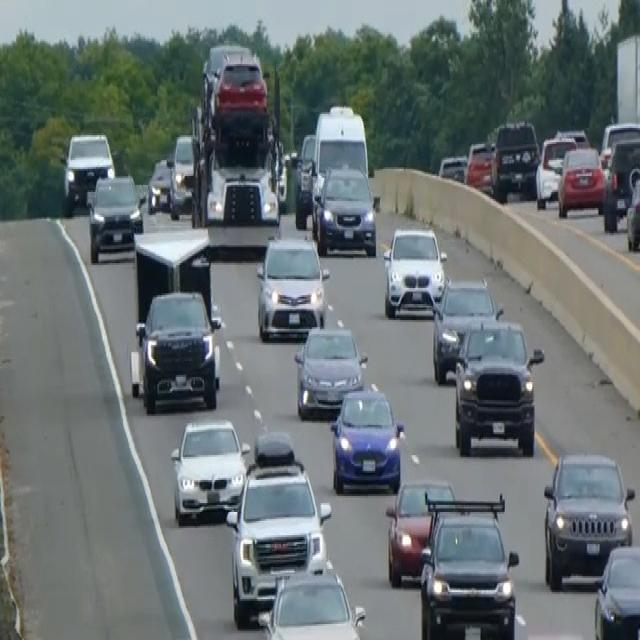car: (225, 430, 331, 628), (418, 492, 519, 638), (542, 448, 634, 590), (452, 315, 544, 457), (130, 286, 221, 412), (169, 416, 250, 524), (329, 384, 405, 494), (254, 231, 329, 341), (257, 564, 367, 638), (429, 274, 502, 384), (384, 476, 455, 586), (293, 320, 367, 418), (382, 222, 447, 318), (313, 164, 377, 256), (87, 171, 143, 263), (59, 128, 115, 213), (593, 542, 639, 638), (491, 117, 540, 199), (200, 39, 251, 117), (557, 144, 605, 219), (602, 135, 639, 231), (534, 133, 577, 208), (292, 132, 317, 226), (169, 132, 196, 212), (599, 119, 639, 173), (464, 139, 495, 192), (146, 155, 174, 213), (625, 169, 639, 252), (438, 151, 467, 183)
jeep: (209, 53, 270, 160)
lorry: (189, 41, 286, 229)
